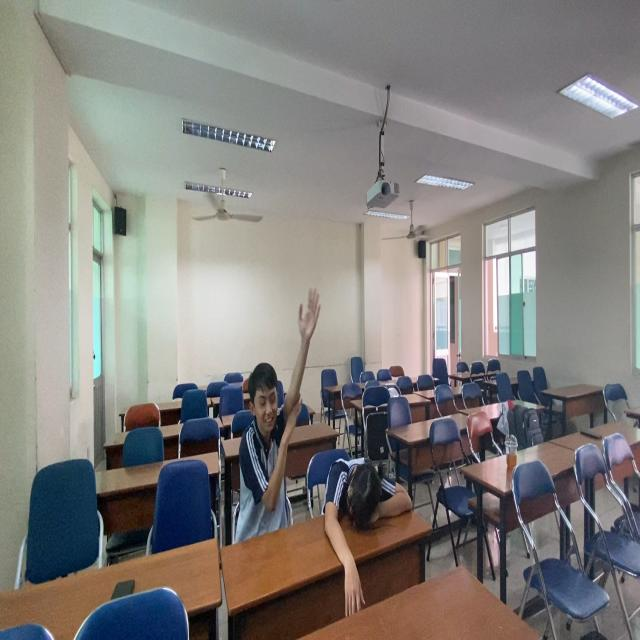raise_hand: (239, 308, 316, 555)
sleep: (320, 448, 416, 588)
